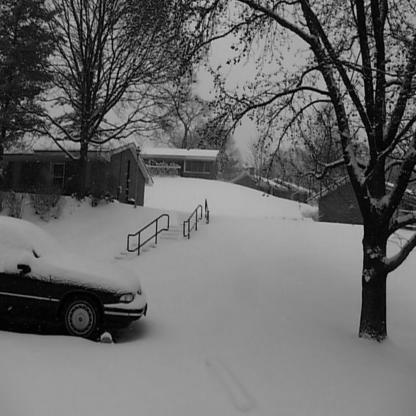car: (1, 225, 154, 359)
